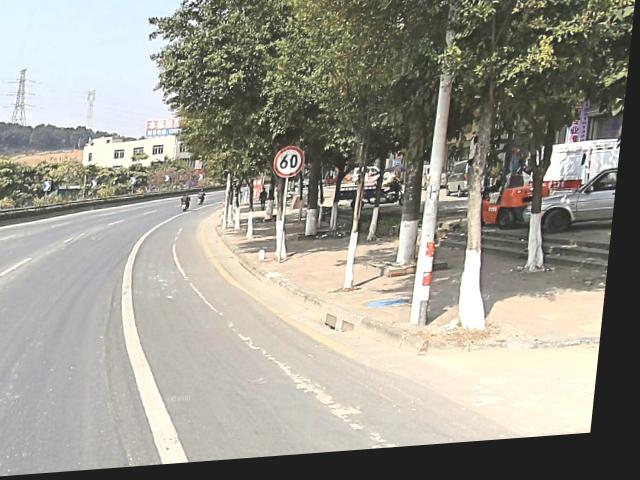limit60: (274, 148, 310, 183)
